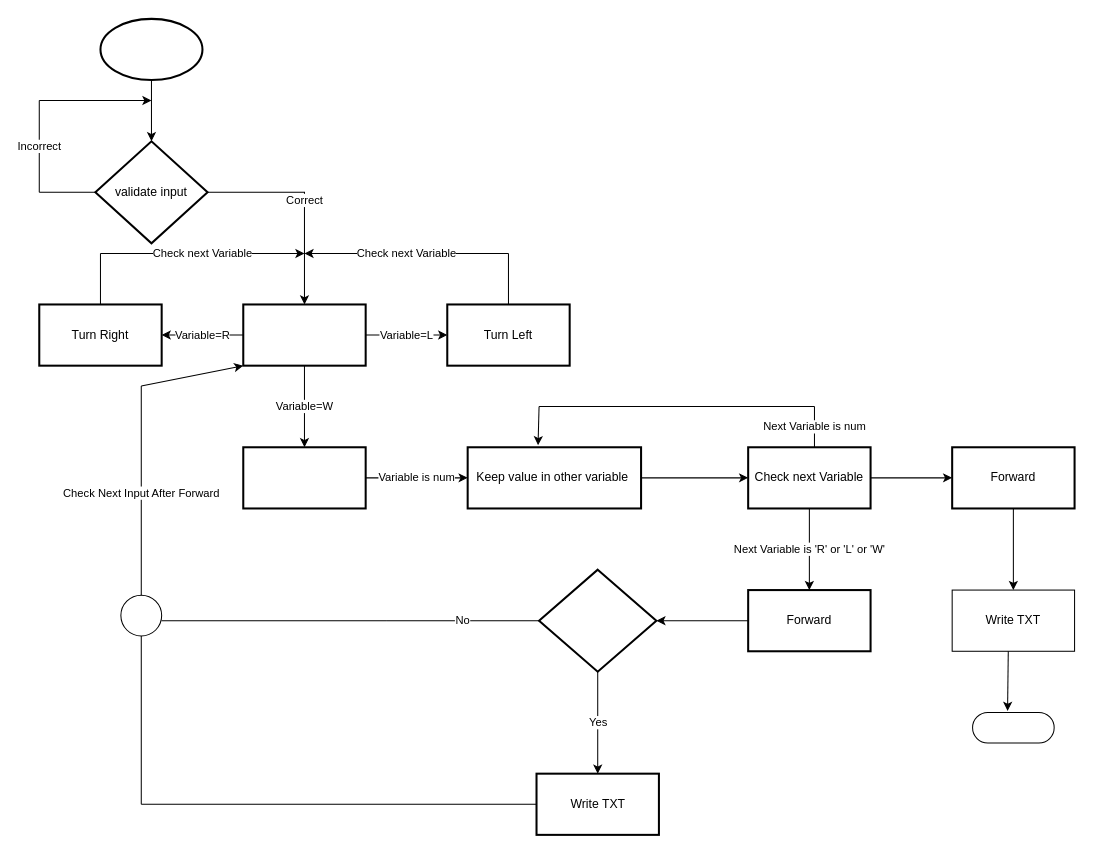
The diagram is 1093 pixels wide and 853 high, and some of its shapes have lost their labels. Here are the shapes that lost their labels. From the top down, the centre of each, then its label:
At pixel 151 49: "start".
At pixel 304 334: "Check Input".
At pixel 304 477: "Check num next to W".
At pixel 597 620: "Crossing X or Y".
At pixel 1013 727: "End".
